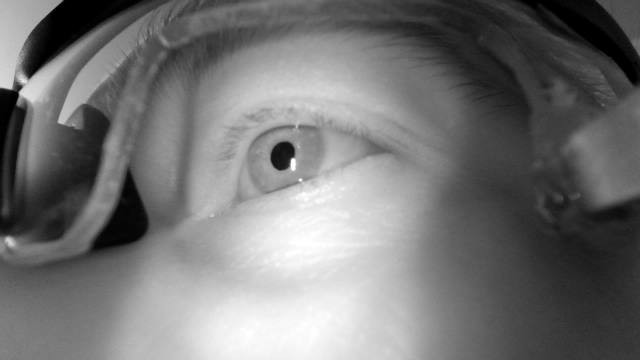pupil: (270, 141, 296, 172)
